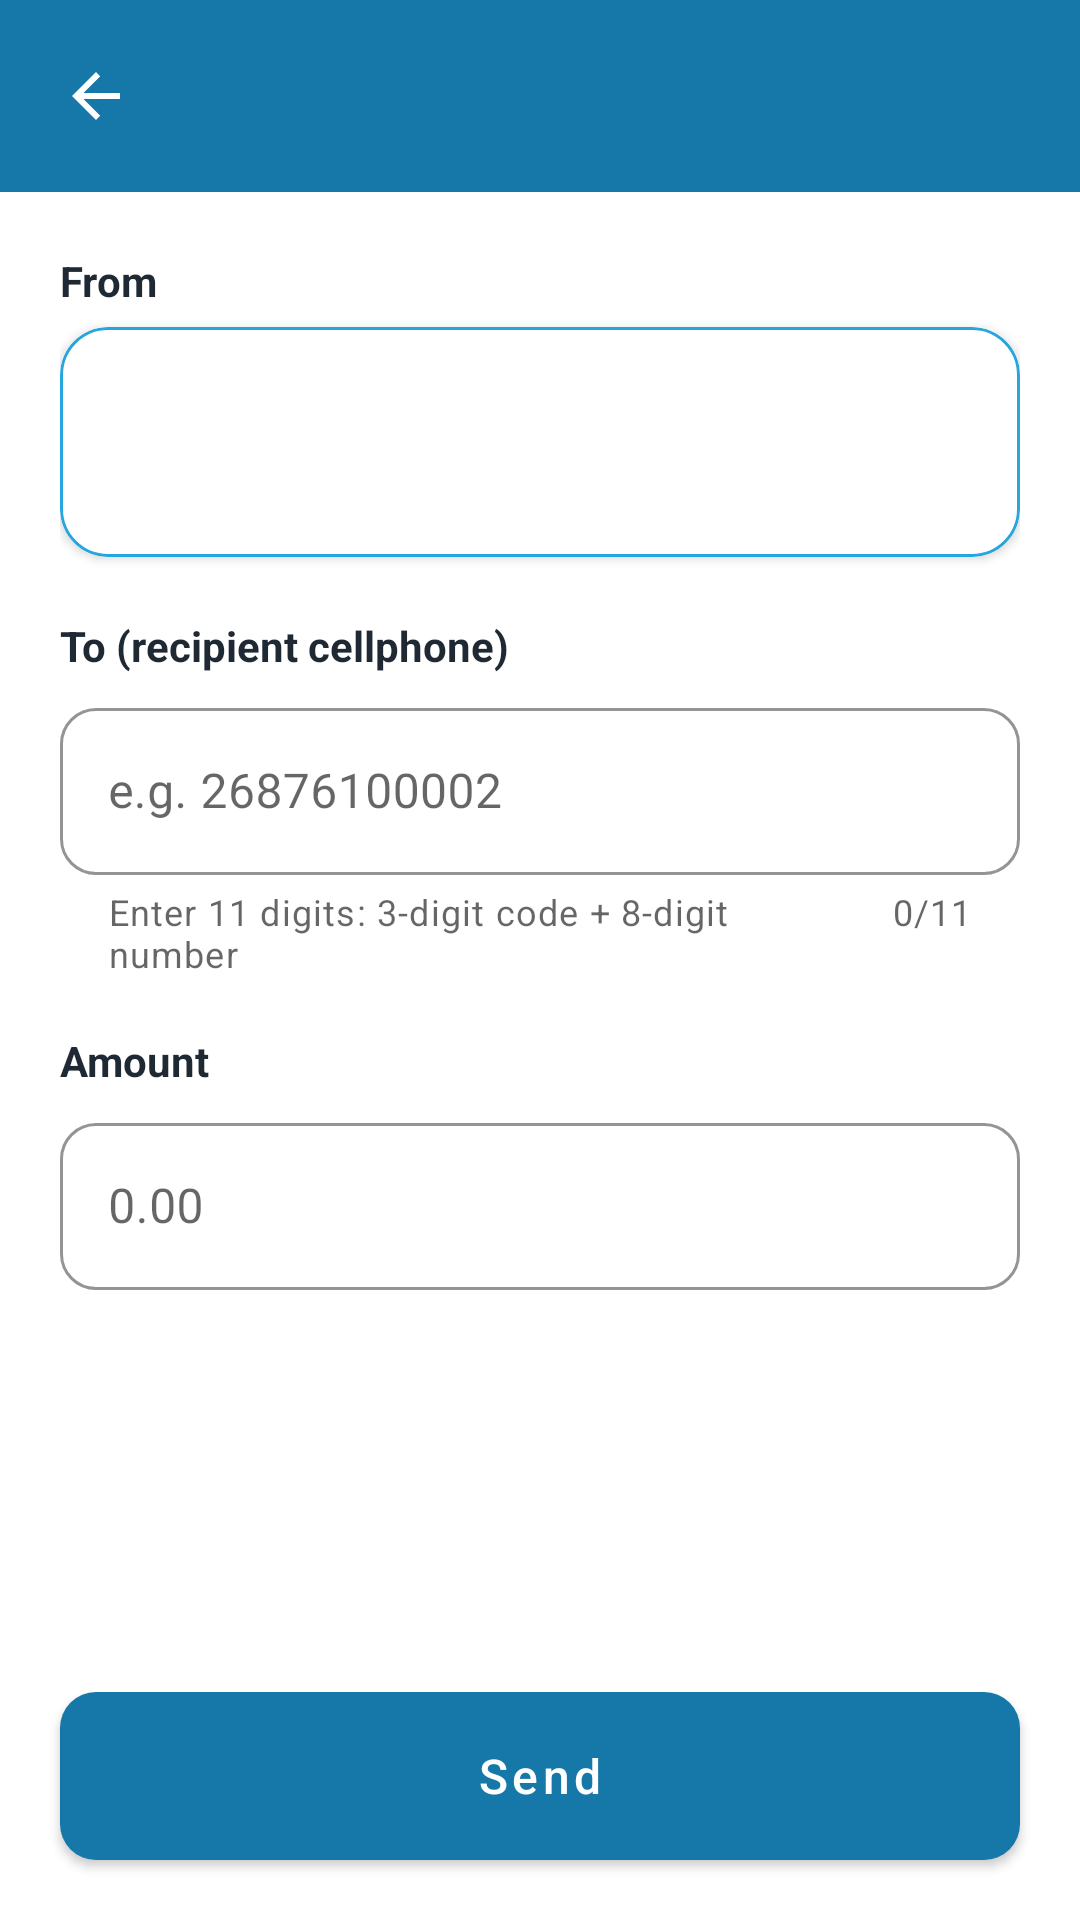

Screen size 1080 x 1920. Icon name, then its box in pixels as bbox=[x1, y1, x2, y2]:
Back: bbox=[72, 72, 120, 120]
